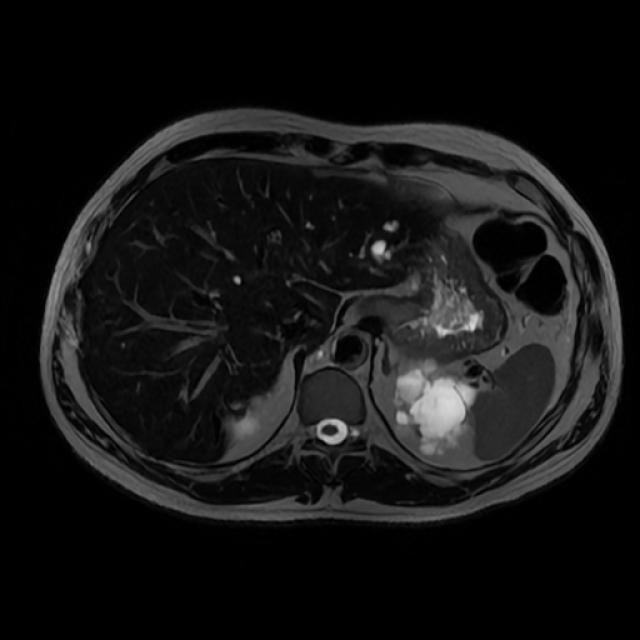sag: (227, 411, 259, 435)
sol: (392, 360, 478, 455)
